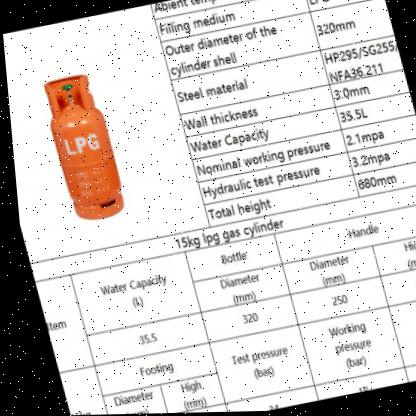gas-tank: (30, 66, 138, 235)
